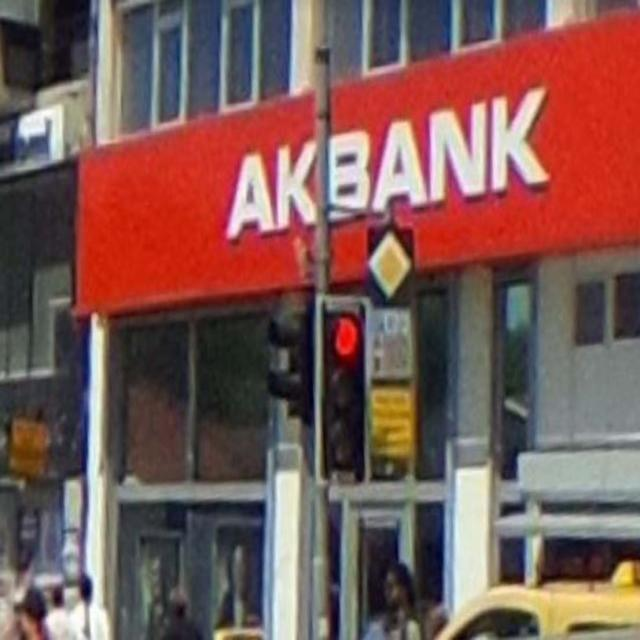kirmizi: (320, 303, 364, 477)
